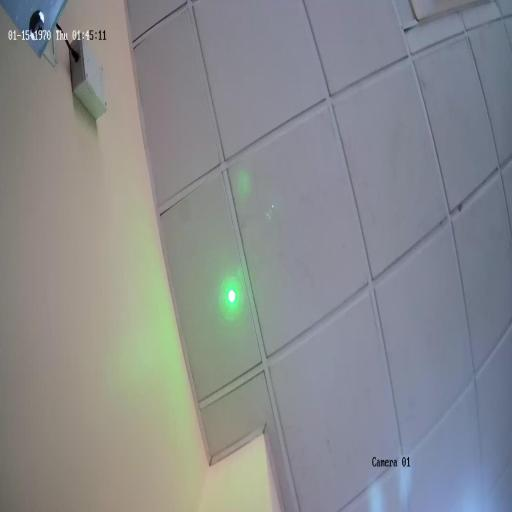laser: (218, 272, 244, 318)
